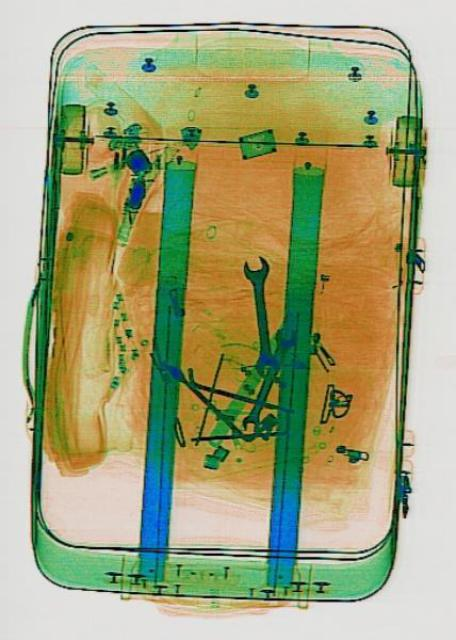Wrench: (236, 317, 298, 437), (238, 254, 279, 376)
